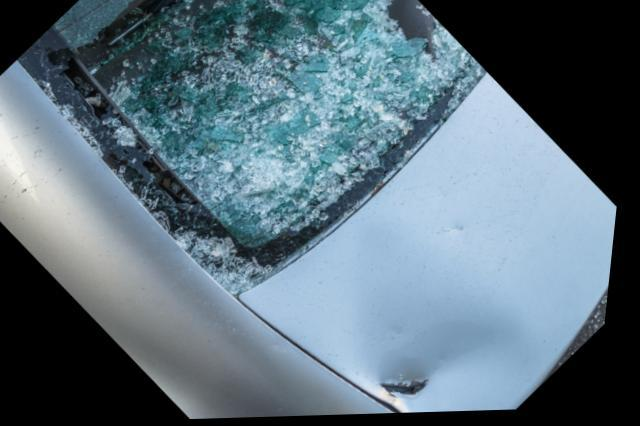crack: (389, 384, 436, 399)
dent: (390, 308, 548, 416)
glass shatter: (18, 0, 487, 300)
